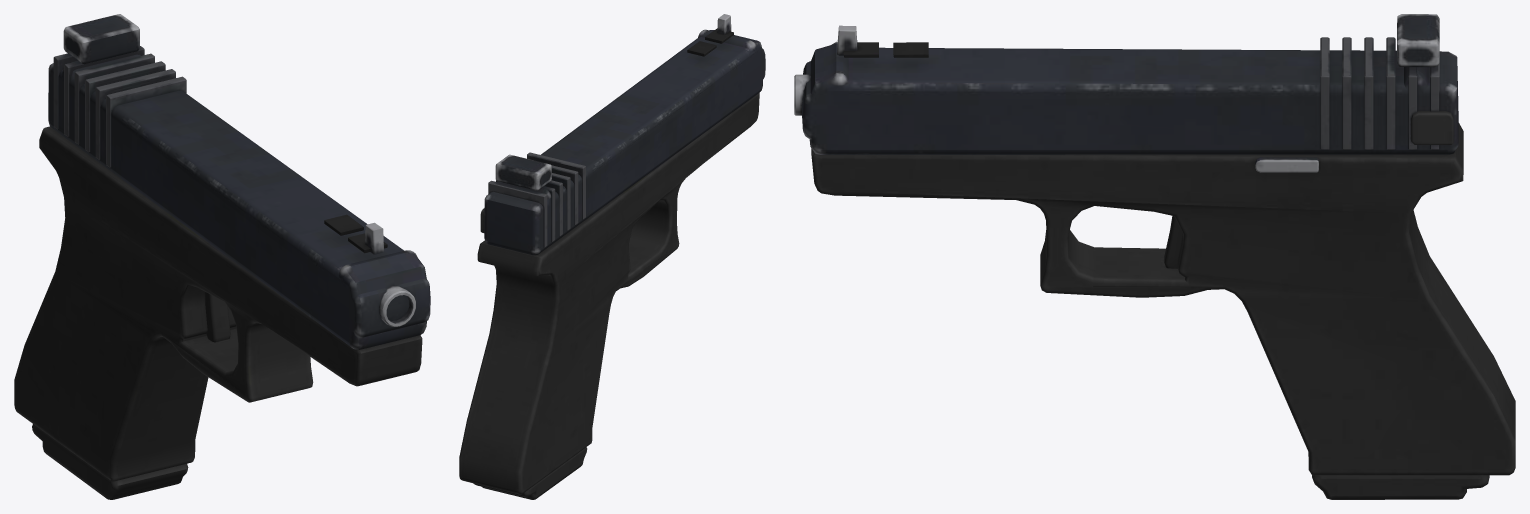
The model's file is pistol_p18c.glb.
3 renders of one model, left to right at view 1: azimuth 30°, elevation 25°; view 2: azimuth 150°, elevation 25°; view 3: azimuth 270°, elevation 25°, orthographic. The views are drawn at different scales.
Parts seen in each view (by area): view 1: body, slide_mesh, mag_mesh; view 2: body, slide_mesh, mag_mesh; view 3: body, slide_mesh, mag_mesh.
Part boxes in pixels (box(x1,y1,x2,y2)): body: box(14, 126, 422, 481); slide_mesh: box(48, 14, 430, 349); mag_mesh: box(32, 424, 188, 499); body: box(459, 93, 759, 494); slide_mesh: box(480, 14, 765, 255); mag_mesh: box(473, 447, 587, 499); body: box(794, 74, 1515, 475); slide_mesh: box(802, 14, 1458, 154); mag_mesh: box(1312, 475, 1489, 499).
Bounding box in the file's own units: 0.0301 × 0.1415 × 0.2035.
1 material, 1 textured.
